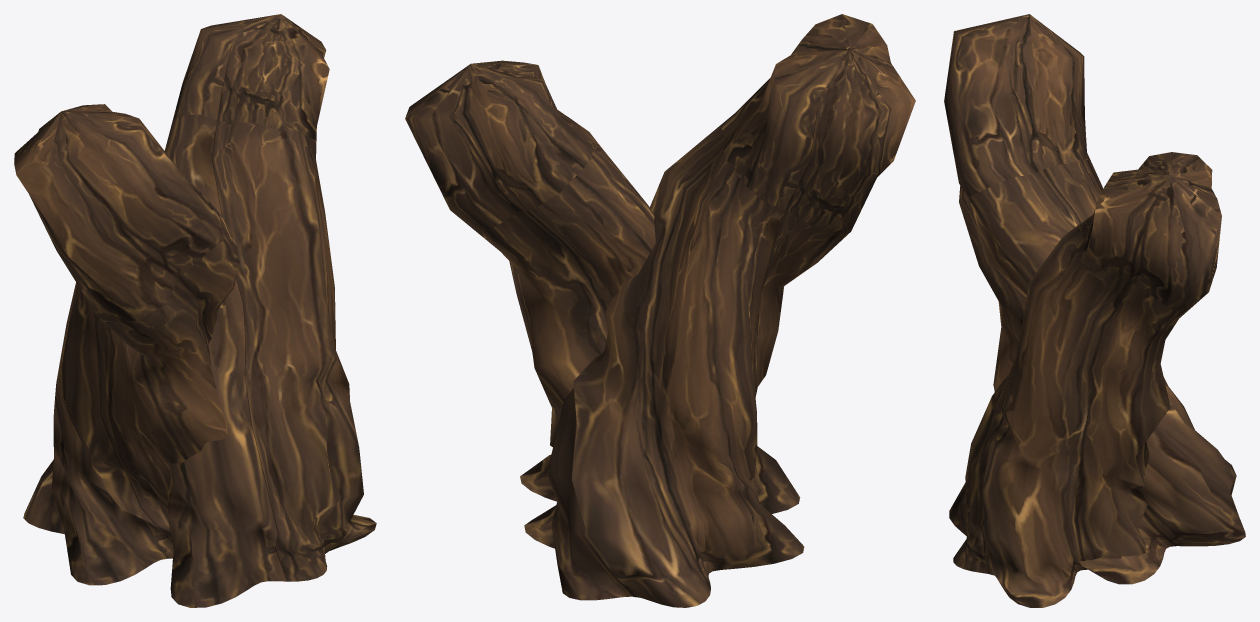
The model's file is FantasyTreeTrunk2.fbx.
3 views of the same model, side by side, from view 1: azimuth 30°, elevation 25°; view 2: azimuth 150°, elevation 25°; view 3: azimuth 270°, elevation 25° (orthographic). The views are drawn at different scales.
Visible parts, largest first — view 1: tree2_0; view 2: tree2_0; view 3: tree2_0.
Part boxes in pixels (x1,y1,x2,y2): tree2_0: (14, 14, 376, 607); tree2_0: (405, 14, 915, 607); tree2_0: (944, 14, 1245, 607).
Size of the model in its own units: 101 by 117 by 71.07.
Materials: 1 (1 with a texture image).
